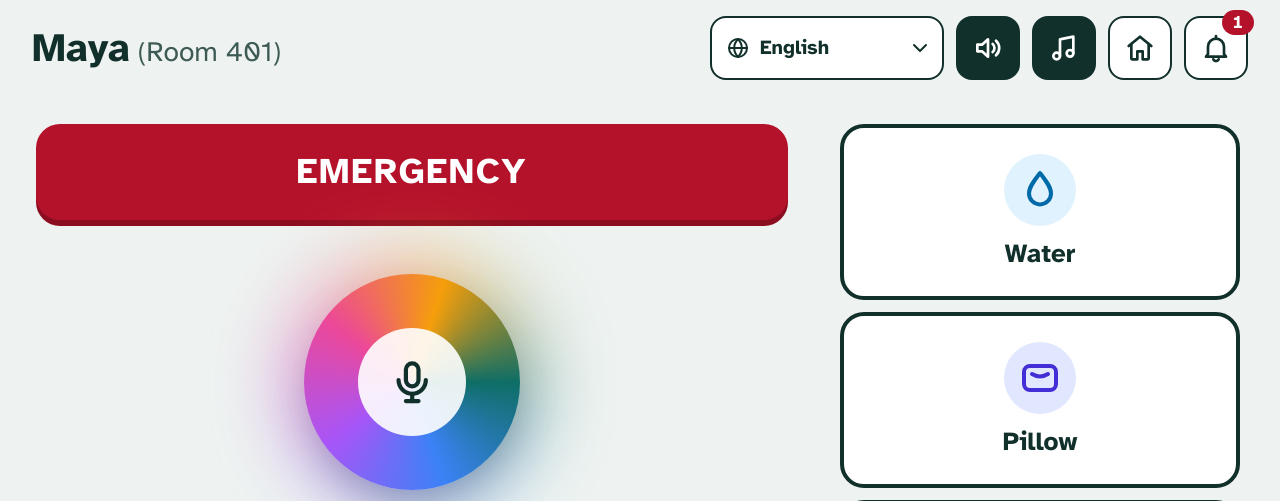
Scenario: PatientPage › updates request status live from the room channel
The width and height of the screenshot is (1280, 501).
Check: the heading "Maya (Room 401)" is shown, box [32, 23, 281, 73]
Click the button named "your requests: 1 open request": click(1216, 48) [1184, 16, 1248, 80]
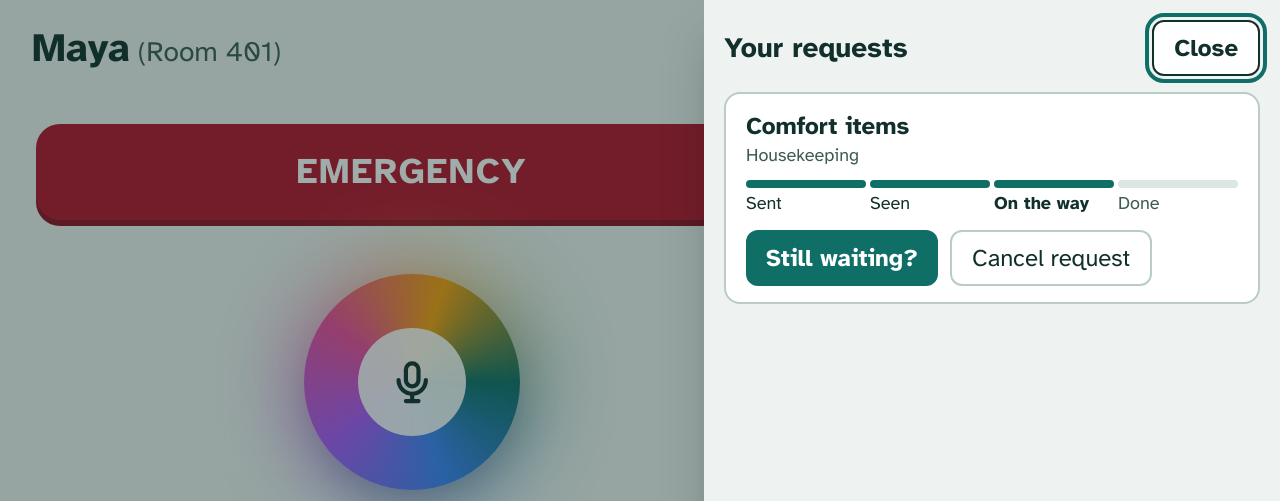
Check: the list item "On the way" is shown, box [994, 180, 1114, 214]
